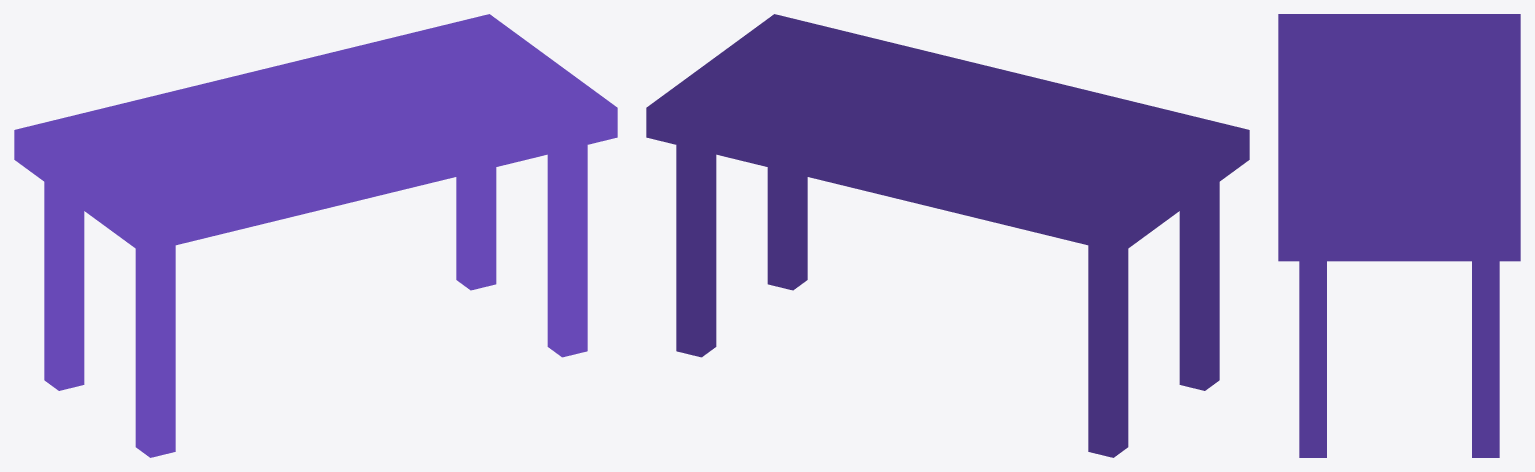
File: desk.obj
3 renders of one model, left to right at view 1: azimuth 30°, elevation 25°; view 2: azimuth 150°, elevation 25°; view 3: azimuth 270°, elevation 25°, orthographic. The views are drawn at different scales.
Parts seen in each view (by area): view 1: desk; view 2: desk; view 3: desk.
Boxes of the visible parts, left/top/right/bottom form: desk: left=14, top=14, right=617, bottom=457; desk: left=646, top=14, right=1249, bottom=457; desk: left=1278, top=14, right=1520, bottom=457.
Size of the model in its own units: 3 by 1.49 by 1.4.
